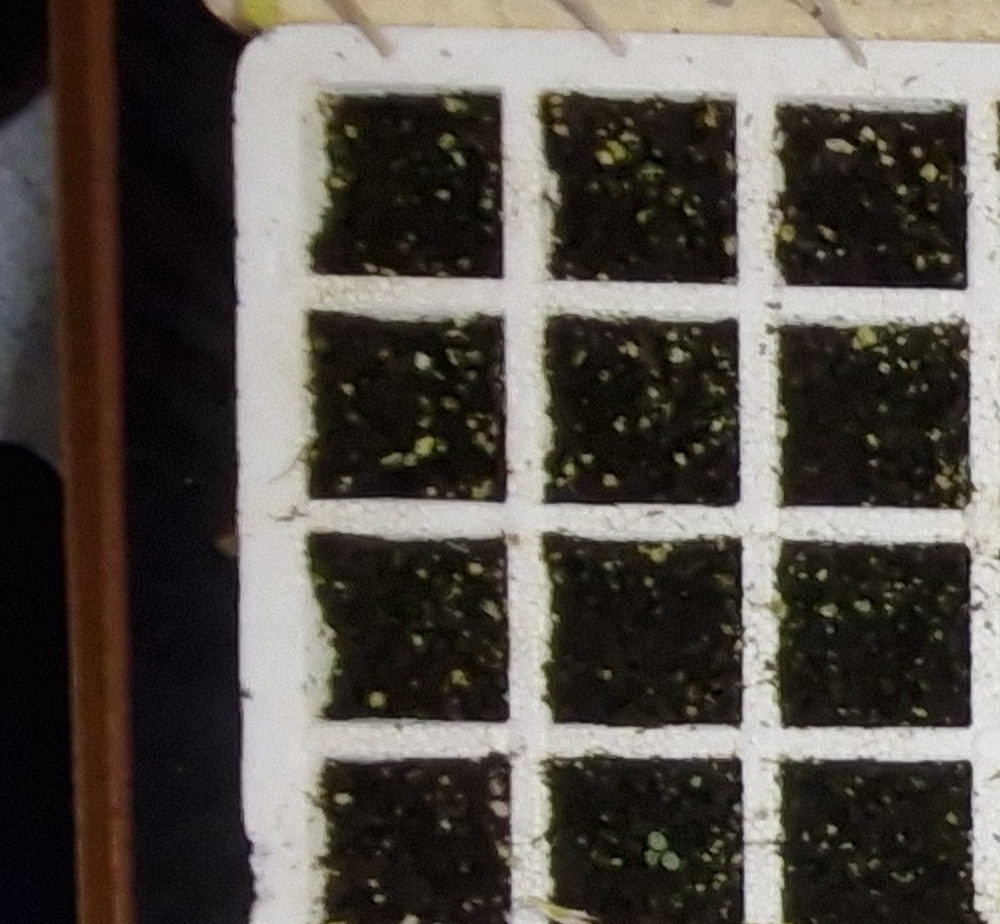Folha: (650, 832, 667, 850), (663, 851, 679, 869), (647, 850, 663, 864)
Germinacao: (645, 832, 680, 869)
